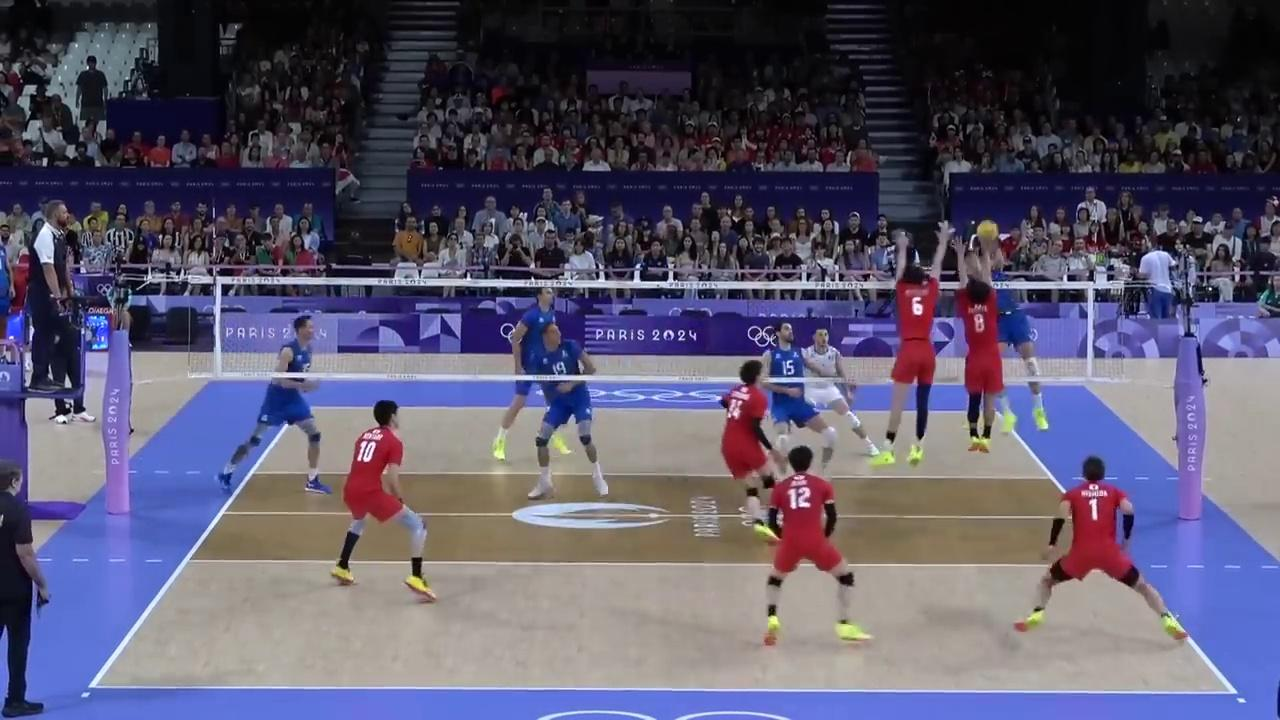ball: (978, 220, 997, 243)
